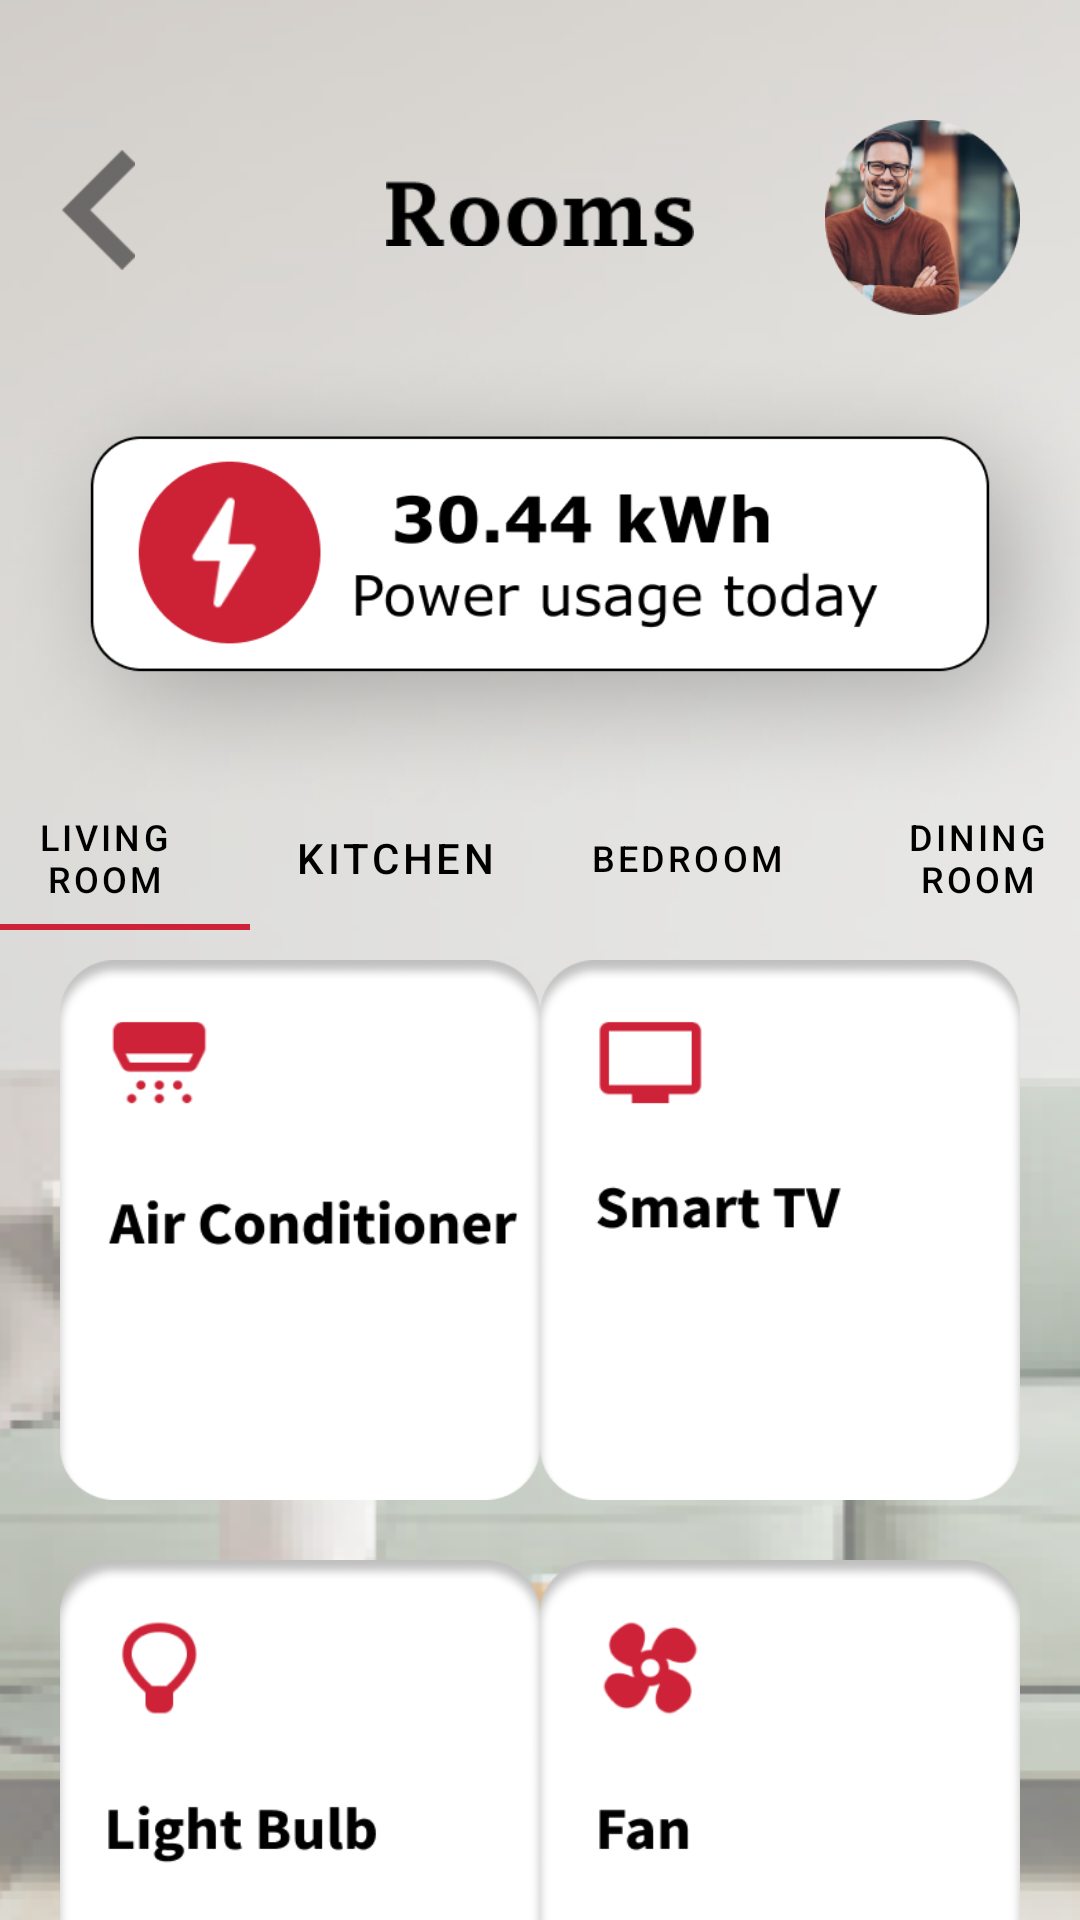

Where icons sit on this 1080×1920 app screen, as (x1,y1,x2,y2):
back but: (62,150,135,270)
profile photo: (825,120,1020,315)
